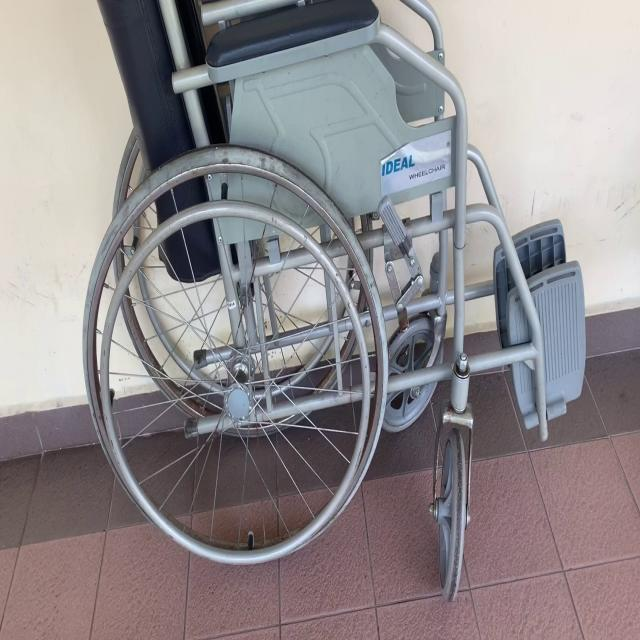wheelchair: (64, 0, 591, 599)
